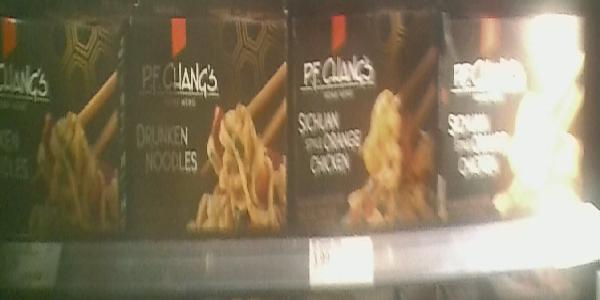pizza1: (126, 9, 288, 231), (292, 6, 441, 222), (448, 6, 587, 227), (1, 14, 127, 231)
